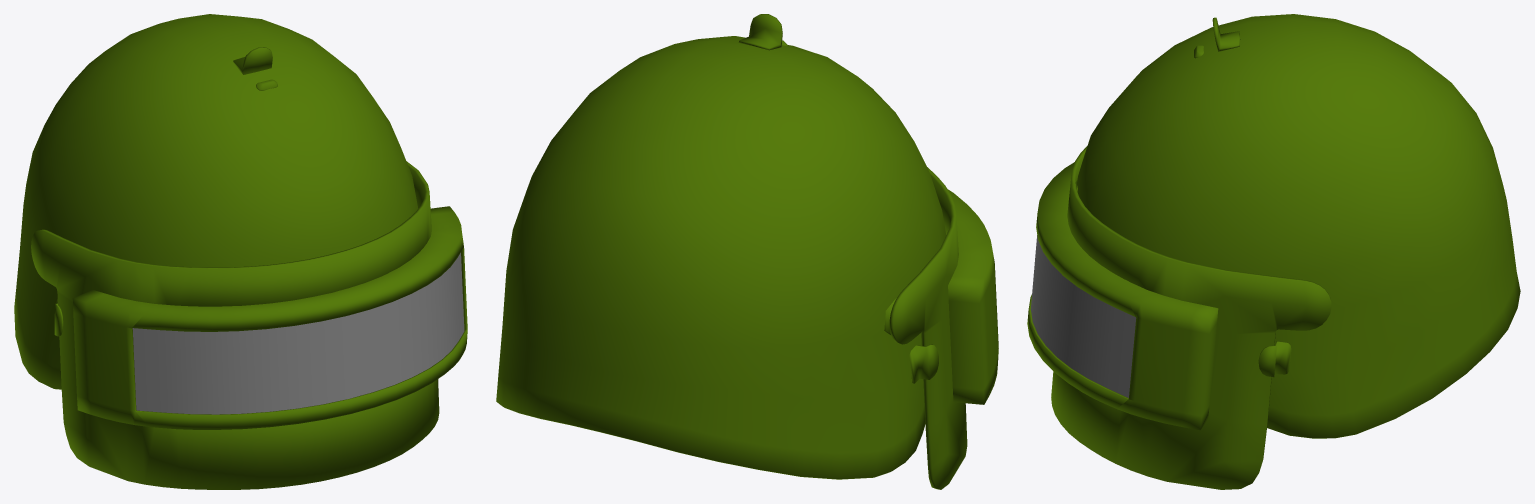
The model's file is Kask_1.fbx.
3 views of the same model, side by side, from view 1: azimuth 30°, elevation 25°; view 2: azimuth 150°, elevation 25°; view 3: azimuth 270°, elevation 25° (orthographic). The views are drawn at different scales.
Parts seen in each view (by area): view 1: Defend_P1_low; view 2: Defend_P1_low; view 3: Defend_P1_low.
Part boxes in pixels (x1=…): Defend_P1_low: x1=14, y1=14, x2=467, y2=489; Defend_P1_low: x1=496, y1=14, x2=998, y2=489; Defend_P1_low: x1=1027, y1=14, x2=1520, y2=489.
Bounding box in the file's own units: 26.29 × 25.35 × 29.23.
